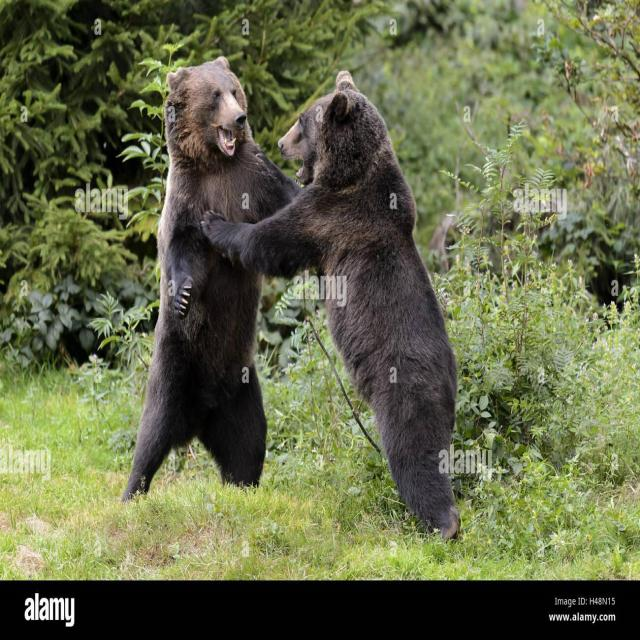Bear: (204, 70, 460, 543), (123, 58, 304, 502)
